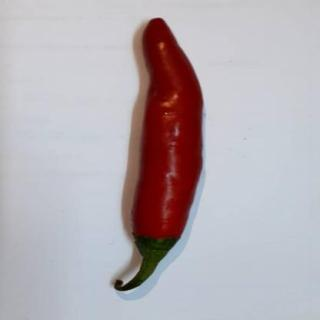Cabai Merah: (109, 17, 205, 293)
